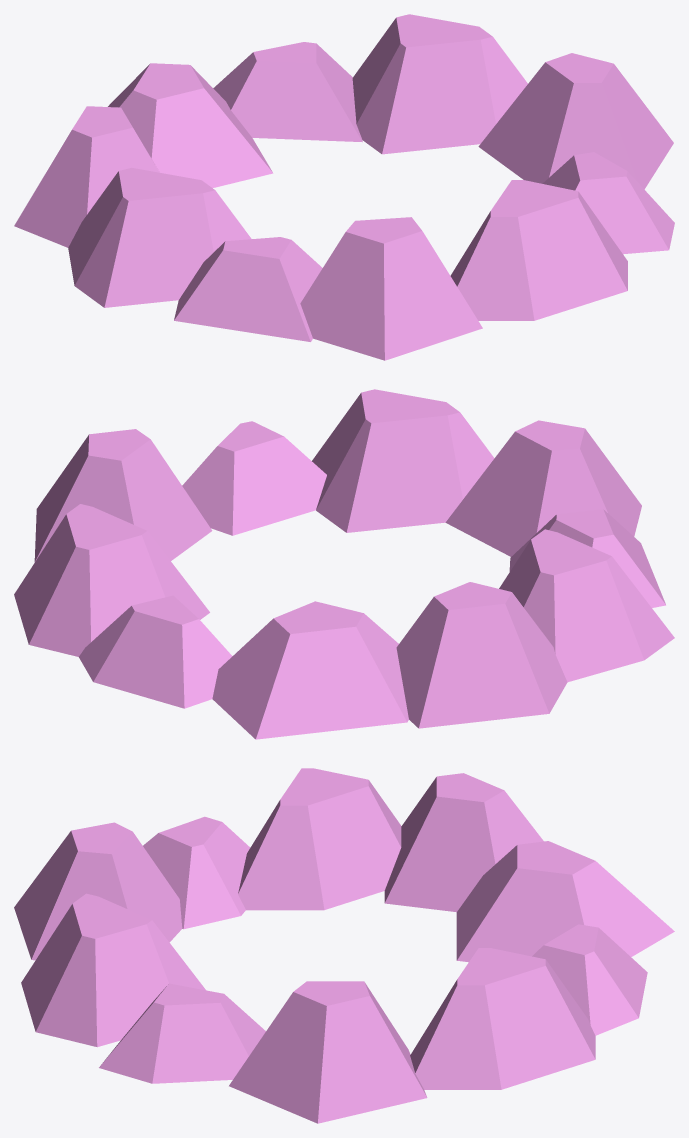
Rendered from FertilizerM.fbx.
3 renders of one model, top to bottom at view 1: azimuth 30°, elevation 25°; view 2: azimuth 150°, elevation 25°; view 3: azimuth 270°, elevation 25°, orthographic. The views are drawn at different scales.
Parts seen in each view (by area): view 1: campfire_stones; view 2: campfire_stones; view 3: campfire_stones.
Boxes of the visible parts, x1=… form: campfire_stones: x1=14, y1=14, x2=674, y2=360; campfire_stones: x1=14, y1=389, x2=674, y2=739; campfire_stones: x1=14, y1=768, x2=674, y2=1123.
Bounding box in the file's own units: 13.52 × 1.94 × 12.89.
